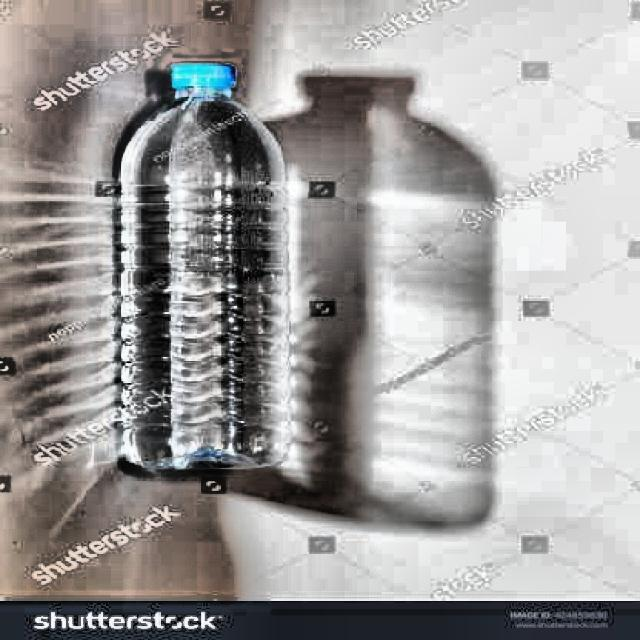Bottles: (101, 61, 302, 482)
